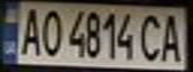1: (100, 8, 121, 60)
4: (115, 9, 139, 61), (63, 6, 84, 58)
8: (81, 7, 103, 60)
A: (157, 10, 187, 63), (15, 5, 45, 57)
C: (136, 10, 166, 63)
O: (36, 6, 63, 57)
